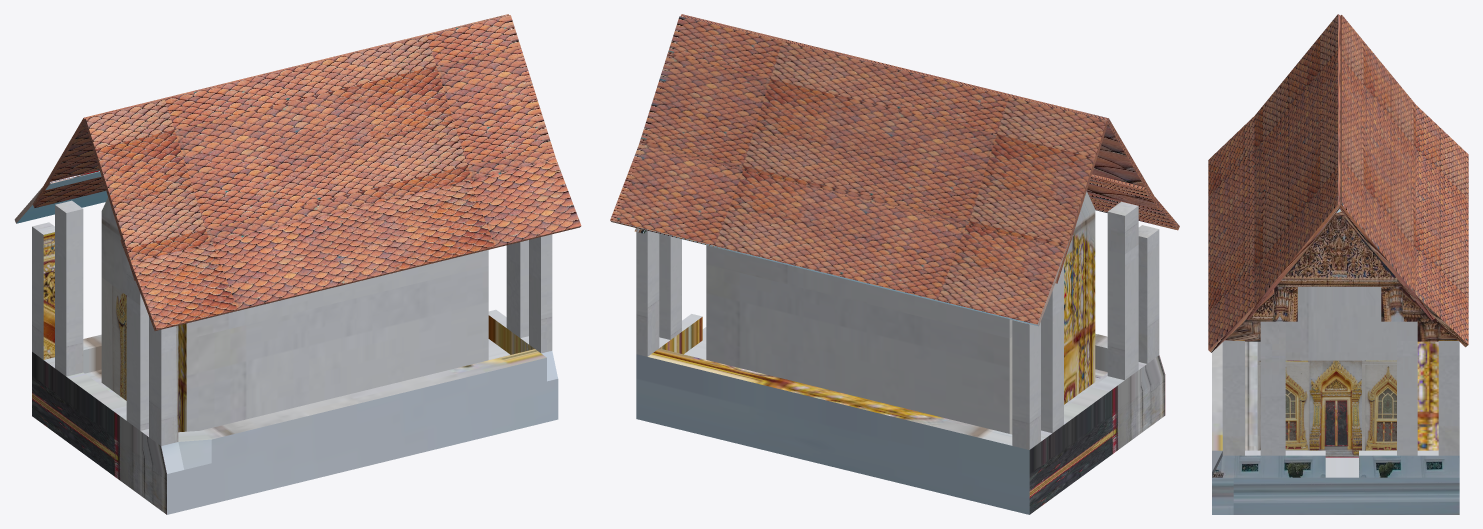
The model's file is ddccccsfbx.fbx.
3 views of the same model, side by side, from view 1: azimuth 30°, elevation 25°; view 2: azimuth 150°, elevation 25°; view 3: azimuth 270°, elevation 25° (orthographic). The views are drawn at different scales.
Parts seen in each view (by area): view 1: Cube, Cube.006, Cube.007, Cube.005, Cube.008; view 2: Cube, Cube.005, Cube.008, Cube.006, Cube.007; view 3: Cube, Cube.006, Cube.005, Cube.008, Cube.007, Cube.001, Cube.002, Cube.003, Cube.004.
Part boxes in pixels (x1=…): Cube: x1=32, y1=197, x2=558, y2=514; Cube.006: x1=84, y1=15, x2=555, y2=280; Cube.007: x1=120, y1=159, x2=581, y2=330; Cube.005: x1=32, y1=14, x2=508, y2=207; Cube.008: x1=14, y1=170, x2=107, y2=223; Cube: x1=636, y1=191, x2=1165, y2=514; Cube.005: x1=639, y1=16, x2=1108, y2=283; Cube.008: x1=610, y1=145, x2=1073, y2=326; Cube.006: x1=680, y1=14, x2=1159, y2=209; Cube.007: x1=1087, y1=174, x2=1179, y2=230; Cube: x1=1212, y1=287, x2=1459, y2=514; Cube.006: x1=1245, y1=14, x2=1340, y2=319; Cube.005: x1=1339, y1=15, x2=1434, y2=320; Cube.008: x1=1402, y1=105, x2=1468, y2=347; Cube.007: x1=1208, y1=116, x2=1274, y2=352; Cube.001: x1=1244, y1=209, x2=1402, y2=321; Cube.002: x1=1381, y1=287, x2=1437, y2=321; Cube.003: x1=1417, y1=321, x2=1457, y2=341; Cube.004: x1=1225, y1=321, x2=1260, y2=341.
Size of the model in its own units: 576 by 452 by 333.
